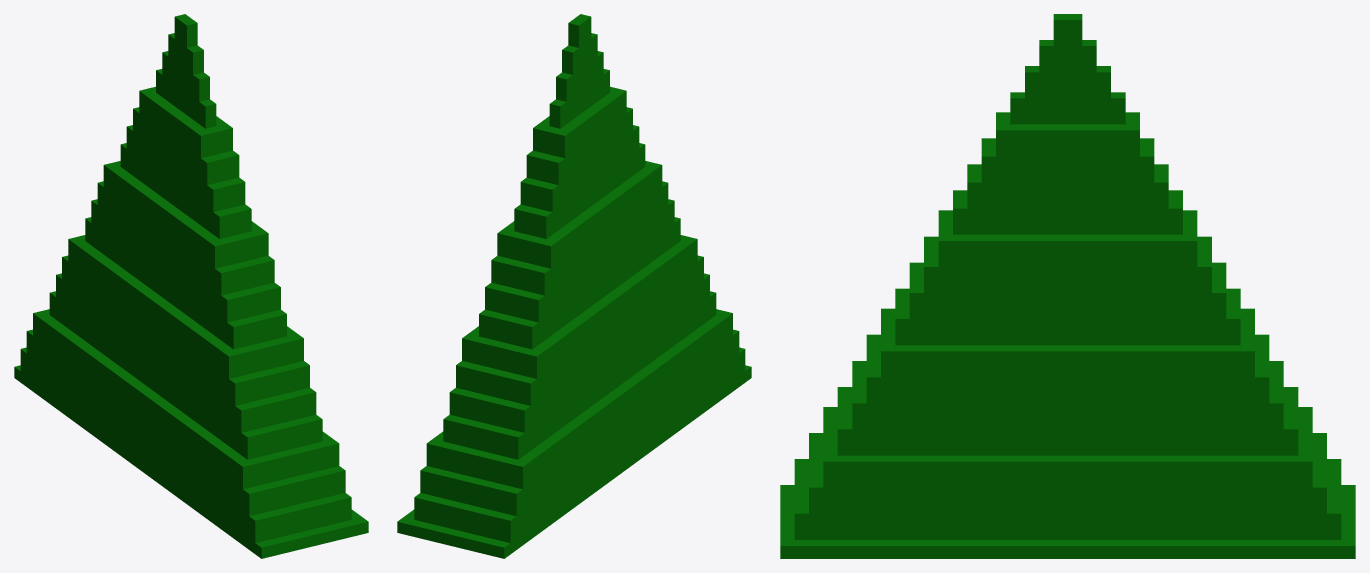
Rendered from Play_Arrow.obj.
The picture shows the model from 3 angles, left to right: view 1: azimuth 30°, elevation 25°; view 2: azimuth 150°, elevation 25°; view 3: azimuth 270°, elevation 25°; orthographic projection. The views are drawn at different scales.
Size of the model in its own units: 1 by 3.9 by 4.
Materials: 1 (1 with a texture image).
